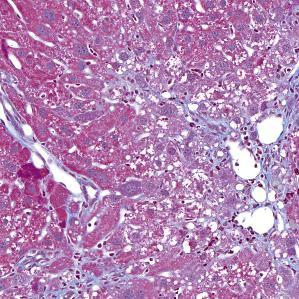fibrosis: (132, 77, 233, 150), (50, 216, 135, 298)
